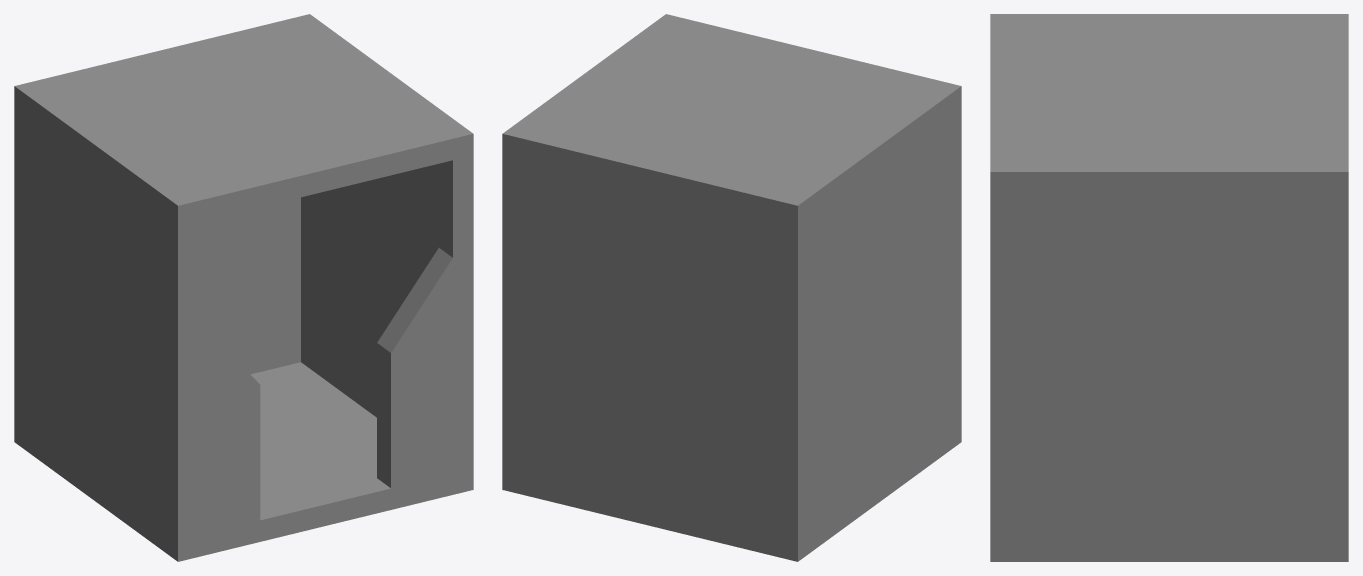
File: f_kitchen_plate_holder.fbx
3 views of the same model, side by side, from view 1: azimuth 30°, elevation 25°; view 2: azimuth 150°, elevation 25°; view 3: azimuth 270°, elevation 25° (orthographic). The views are drawn at different scales.
Visible parts, largest first — view 1: plate_holder; view 2: plate_holder; view 3: plate_holder.
Boxes of the visible parts, x1,y1,x2,y2 form: plate_holder: [14, 14, 473, 561]; plate_holder: [502, 14, 961, 561]; plate_holder: [990, 14, 1348, 561].
Bounding box in the file's own units: 43.4 × 50 × 41.64.
Materials: 1 (1 with a texture image).
